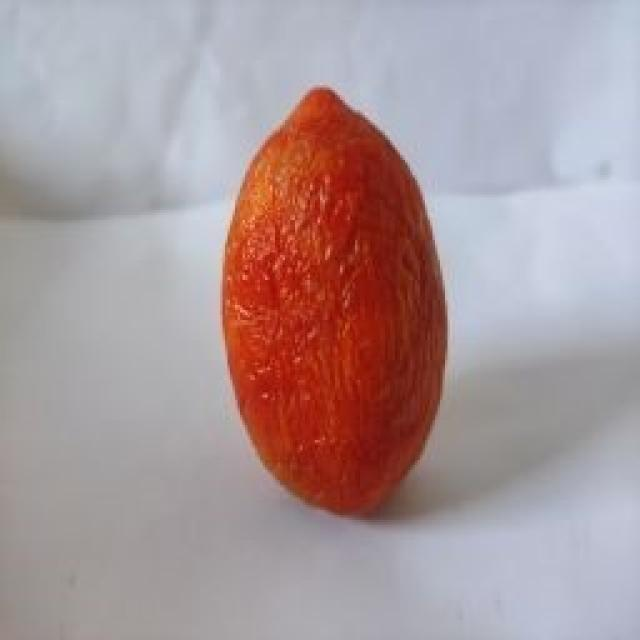overripe: (218, 82, 455, 518)
